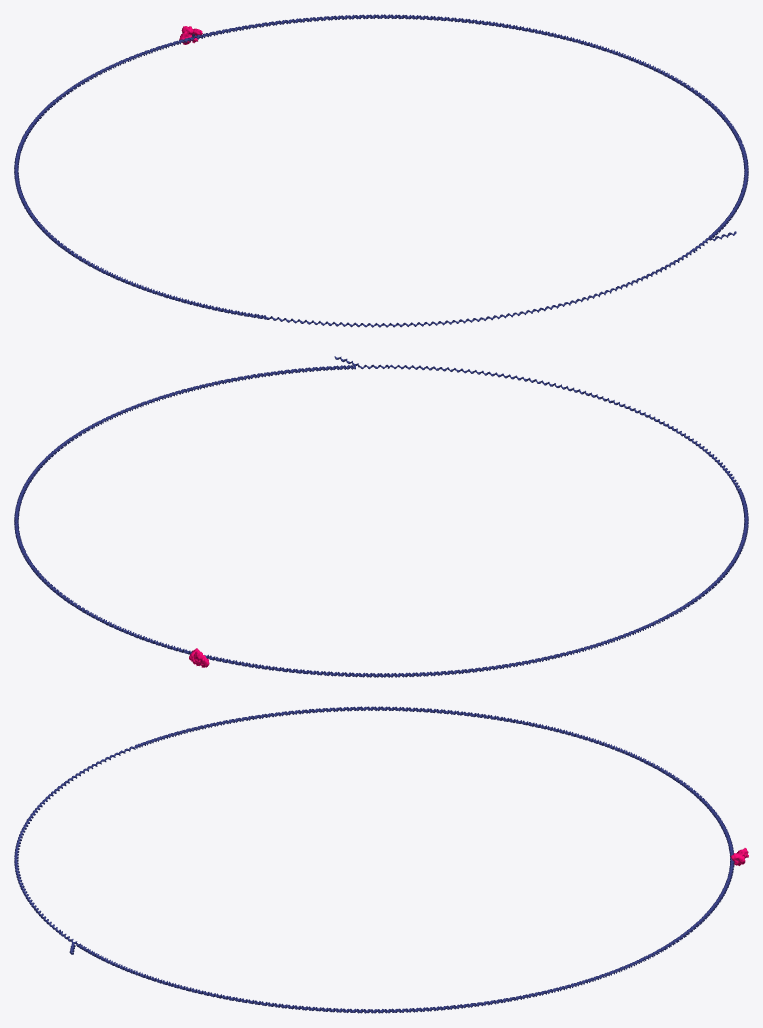
Rendered from 3DPX-015988.glb.
3 renders of one model, top to bottom at view 1: azimuth 30°, elevation 25°; view 2: azimuth 150°, elevation 25°; view 3: azimuth 270°, elevation 25°, orthographic. The views are drawn at different scales.
Parts seen in each view (by area): view 1: RCDNA_relaxed; view 2: RCDNA_relaxed; view 3: RCDNA_relaxed.
Boxes of the visible parts, box(x1,y1,x2,y2) form: RCDNA_relaxed: box(14, 14, 748, 327); RCDNA_relaxed: box(14, 356, 748, 677); RCDNA_relaxed: box(14, 706, 738, 1013).
Size of the model in its own units: 35.06 by 0.8567 by 35.75.
